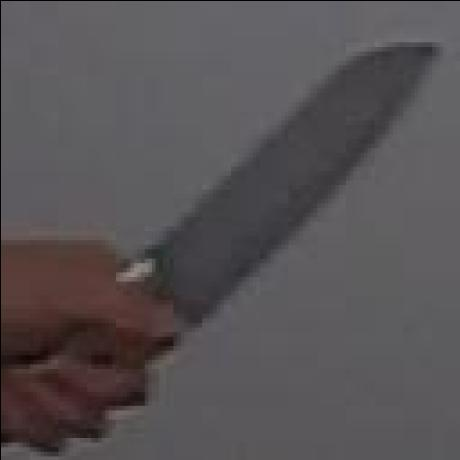weapon: (146, 34, 442, 329)
